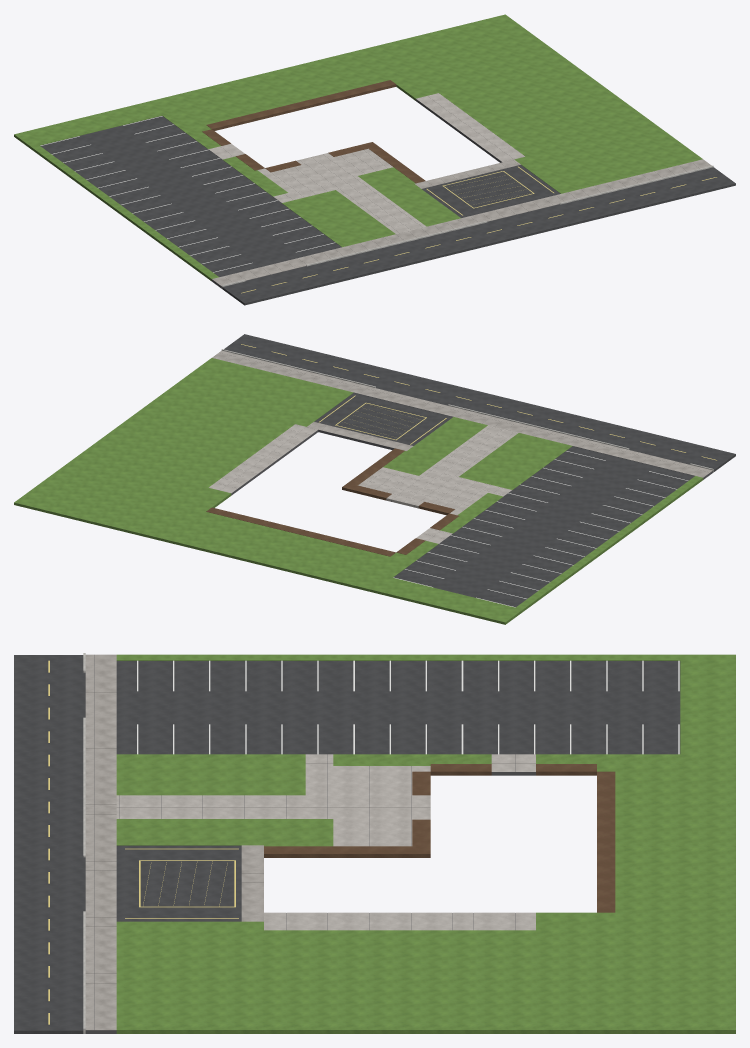
Rendered from site.glb.
3 views of the same model, one above another, from view 1: azimuth 30°, elevation 25°; view 2: azimuth 150°, elevation 25°; view 3: azimuth 270°, elevation 25° (orthographic). The views are drawn at different scales.
Visible parts, largest first — view 1: site_grass, site_asphalt, site_concrete, site_conc_s, site_mulch, site_line_w, site_curb, site_line_y; view 2: site_grass, site_asphalt, site_concrete, site_conc_s, site_mulch, site_line_w, site_curb, site_dark, site_line_y; view 3: site_grass, site_asphalt, site_concrete, site_conc_s, site_mulch, site_line_w, site_line_y, site_dark, site_curb.
Part boxes in pixels (left/top/right/bottom): site_grass: left=14, top=14, right=702, bottom=280; site_asphalt: left=40, top=116, right=735, bottom=305; site_concrete: left=209, top=93, right=524, bottom=233; site_conc_s: left=212, top=159, right=711, bottom=285; site_mulch: left=202, top=80, right=425, bottom=183; site_line_w: left=40, top=116, right=335, bottom=272; site_curb: left=221, top=165, right=713, bottom=288; site_line_y: left=241, top=166, right=716, bottom=293; site_grass: left=14, top=358, right=703, bottom=624; site_asphalt: left=224, top=334, right=735, bottom=607; site_concrete: left=209, top=424, right=518, bottom=543; site_conc_s: left=212, top=350, right=712, bottom=477; site_mulch: left=206, top=448, right=458, bottom=556; site_line_w: left=393, top=451, right=688, bottom=607; site_curb: left=221, top=349, right=713, bottom=472; site_dark: left=231, top=392, right=712, bottom=543; site_line_y: left=241, top=344, right=716, bottom=460; site_grass: left=116, top=654, right=735, bottom=1033; site_asphalt: left=14, top=655, right=680, bottom=1033; site_concrete: left=116, top=754, right=535, bottom=930; site_conc_s: left=85, top=654, right=263, bottom=1030; site_mulch: left=264, top=764, right=615, bottom=912; site_line_w: left=137, top=660, right=679, bottom=754; site_line_y: left=48, top=660, right=238, bottom=1024; site_dark: left=85, top=655, right=535, bottom=1033; site_curb: left=83, top=653, right=85, bottom=1033.
Bounding box in the file's own units: 64 × 0.42 × 52.
Materials: 9 (6 with a texture image).
